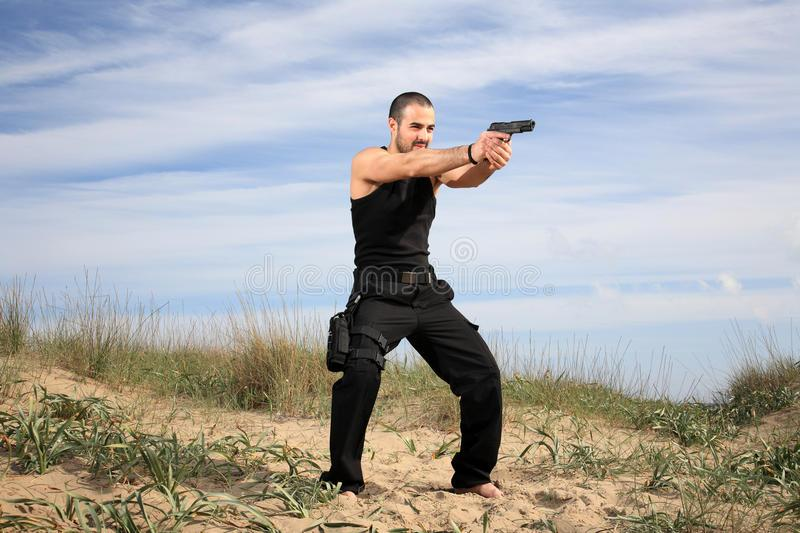criminal: (317, 88, 540, 506)
weapon: (484, 116, 540, 146)
